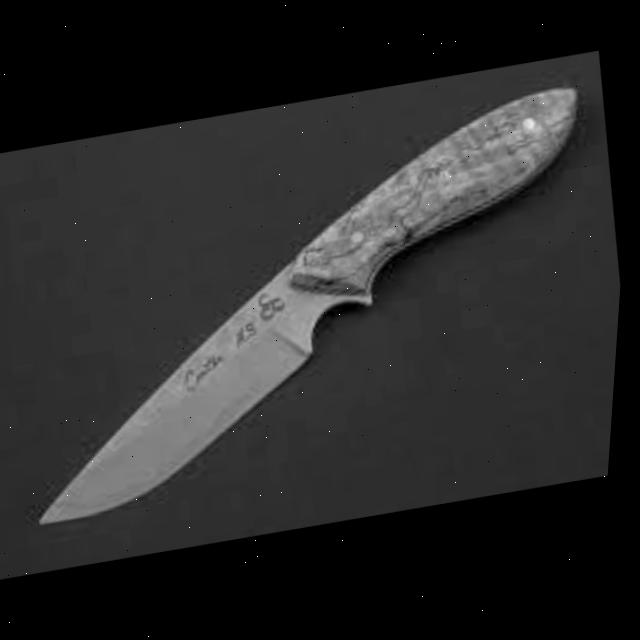Knife: (0, 81, 634, 528)
